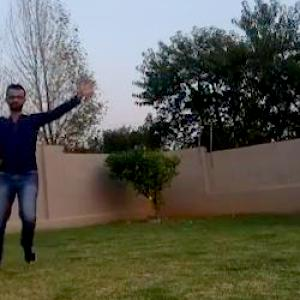takeoff: (1, 83, 107, 264)
